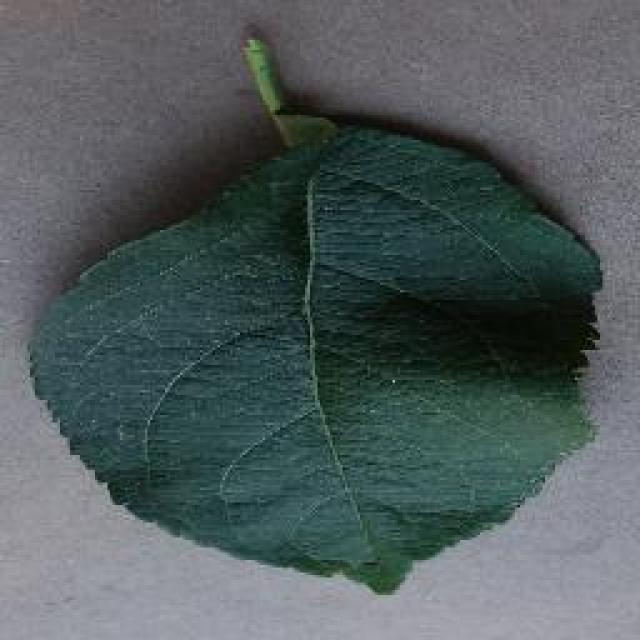apple healthy: (25, 33, 605, 595)
